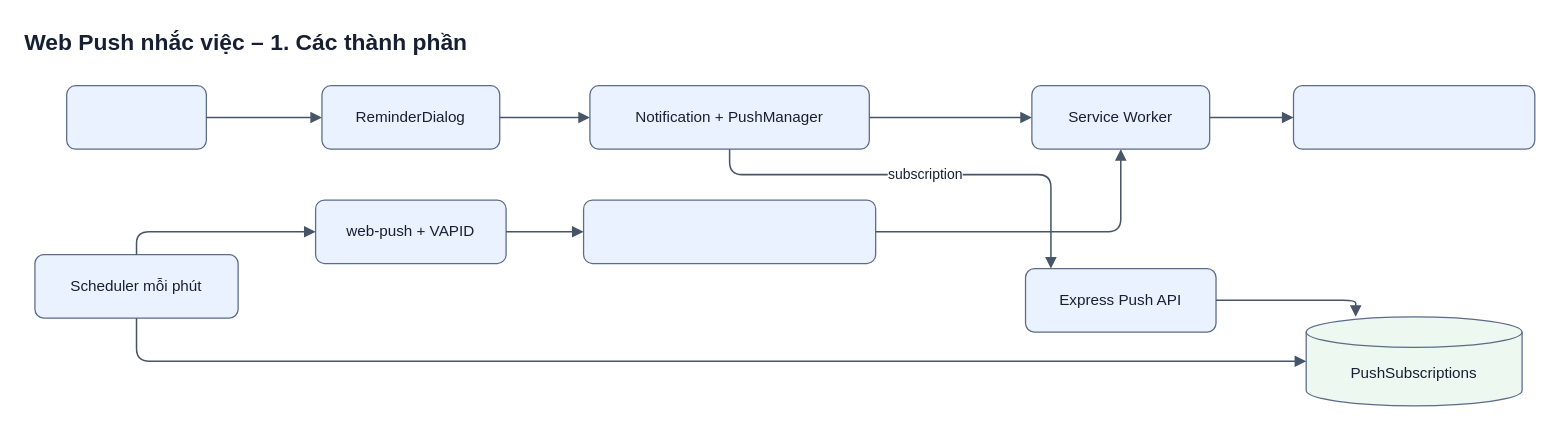
This 1557x428 diagram has some shape labels left out. The centre of each missing label's shape, as x and y in pixels:
FCM / WNS / Mozilla / Apple: the point at 729,231
Người dùng: the point at 135,116
Thông báo hệ điều hành: the point at 1413,116
